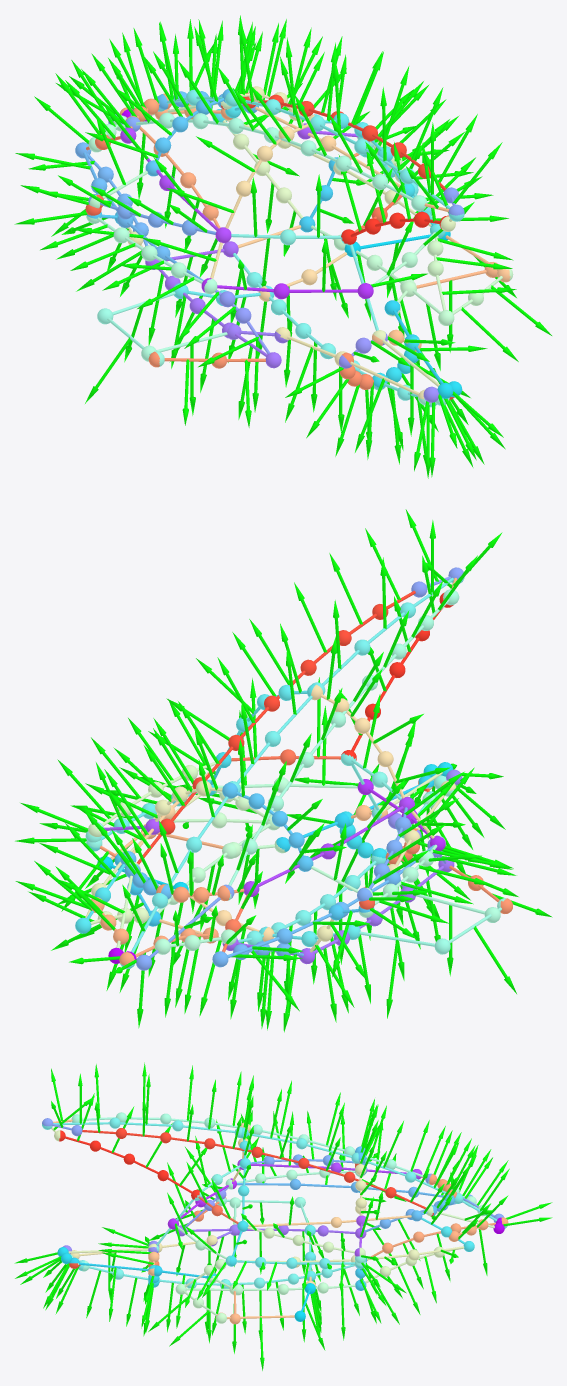
The model's file is ils_spacecraft_78.gltf.
The picture shows the model from 3 angles, top to bottom: view 1: azimuth 30°, elevation 25°; view 2: azimuth 150°, elevation 25°; view 3: azimuth 270°, elevation 25°; orthographic projection. The views are drawn at different scales.
Size of the model in its own units: 0.6146 by 0.5146 by 0.9581.
